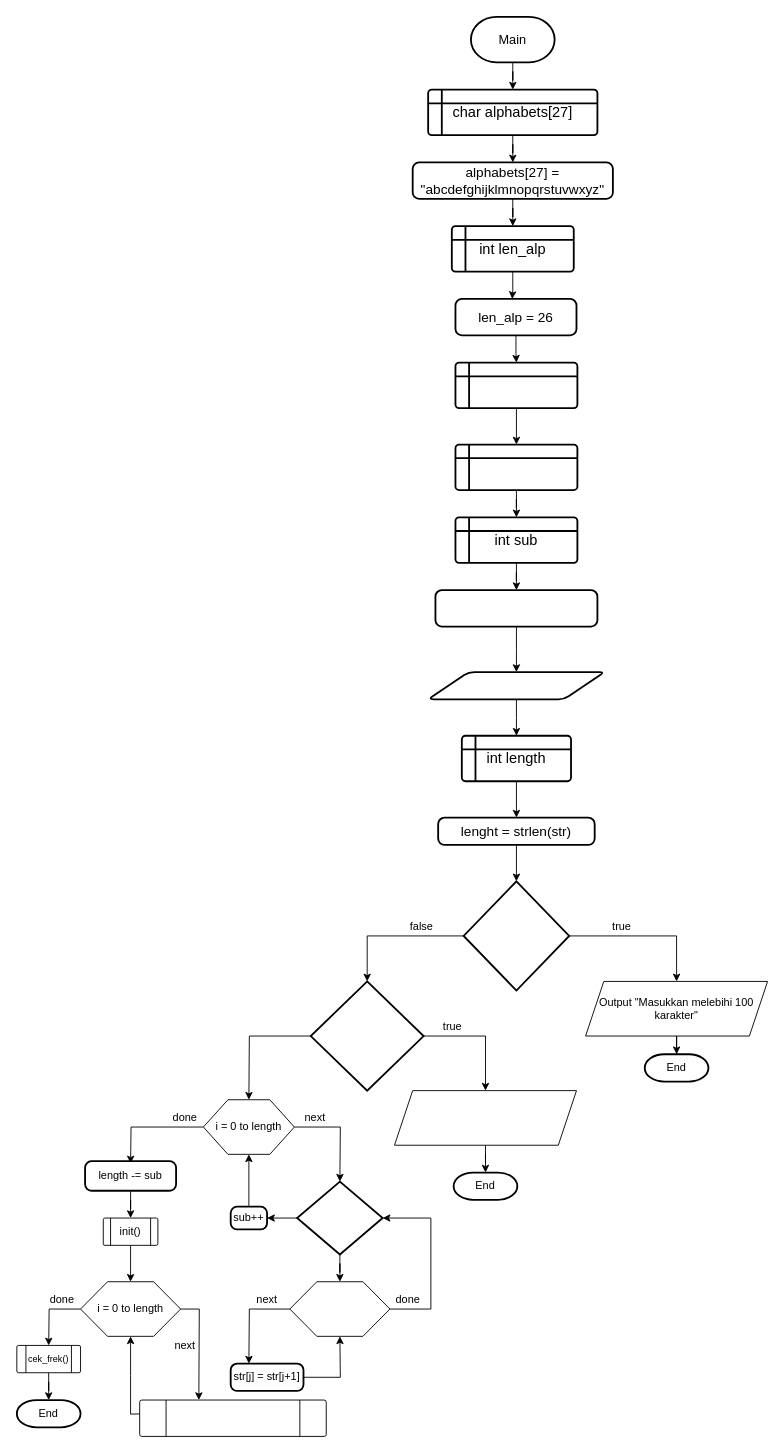
Some shapes in this 784 by 1452 pixel diagram are drawn without their labels. Here are the shapes that lost their labels. From the top down, the centre of each, then its label:
[516,385]: Node *head
[516,466]: char str[200]
[516,608]: sub = 0
[516,685]: Input str
[516,935]: length > 100
[366,1035]: str[0] == '.'
[485,1117]: Output "Masukkan tidak boleh diawali karakter '.' (titik)"
[339,1217]: str[i] == ' '
[339,1308]: j = i to length-1
[232,1417]: tambah_belakang(tolower(str[i]))
